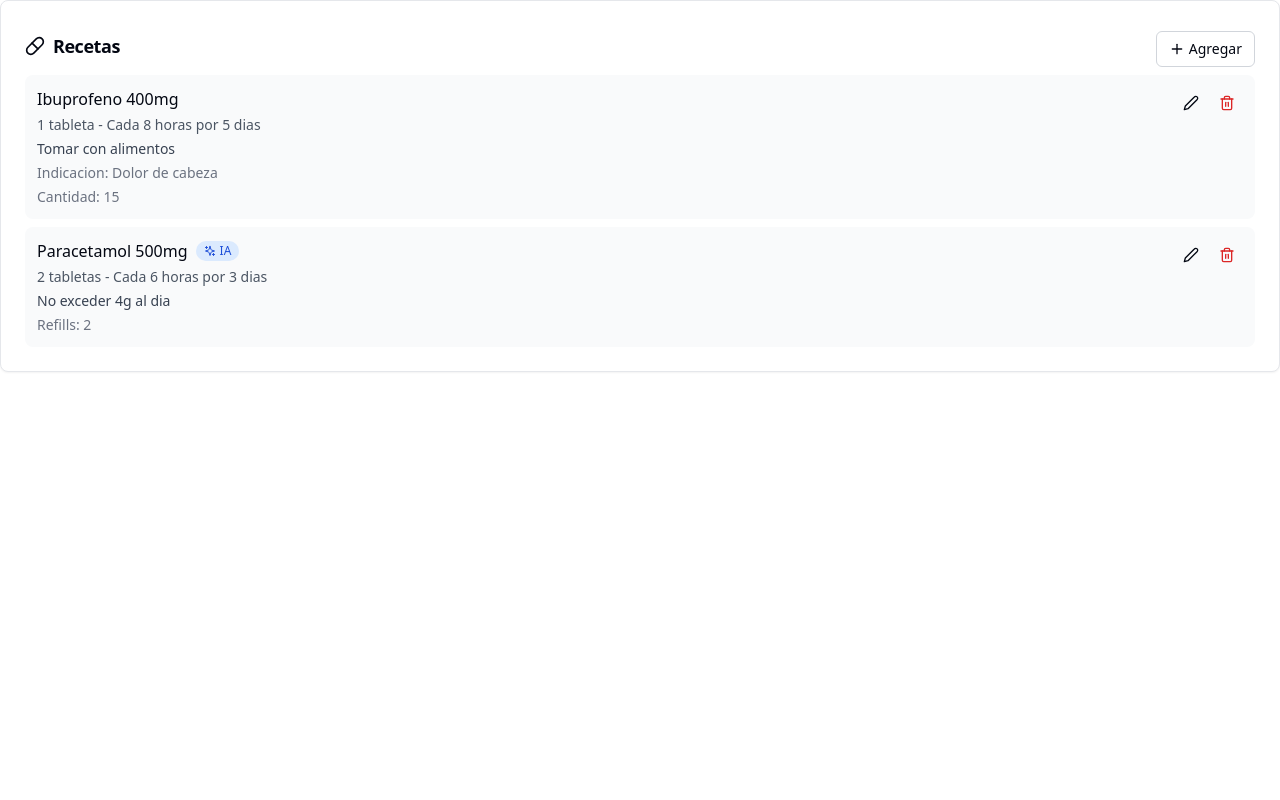
Test: PrescriptionsSection › should show edit form when clicking edit button
// First prescription's edit button is the first icon button (index 0)
Step 1. Click the 2nd button → (1191, 103), box top-left (1175, 87), bottom-right (1207, 119)
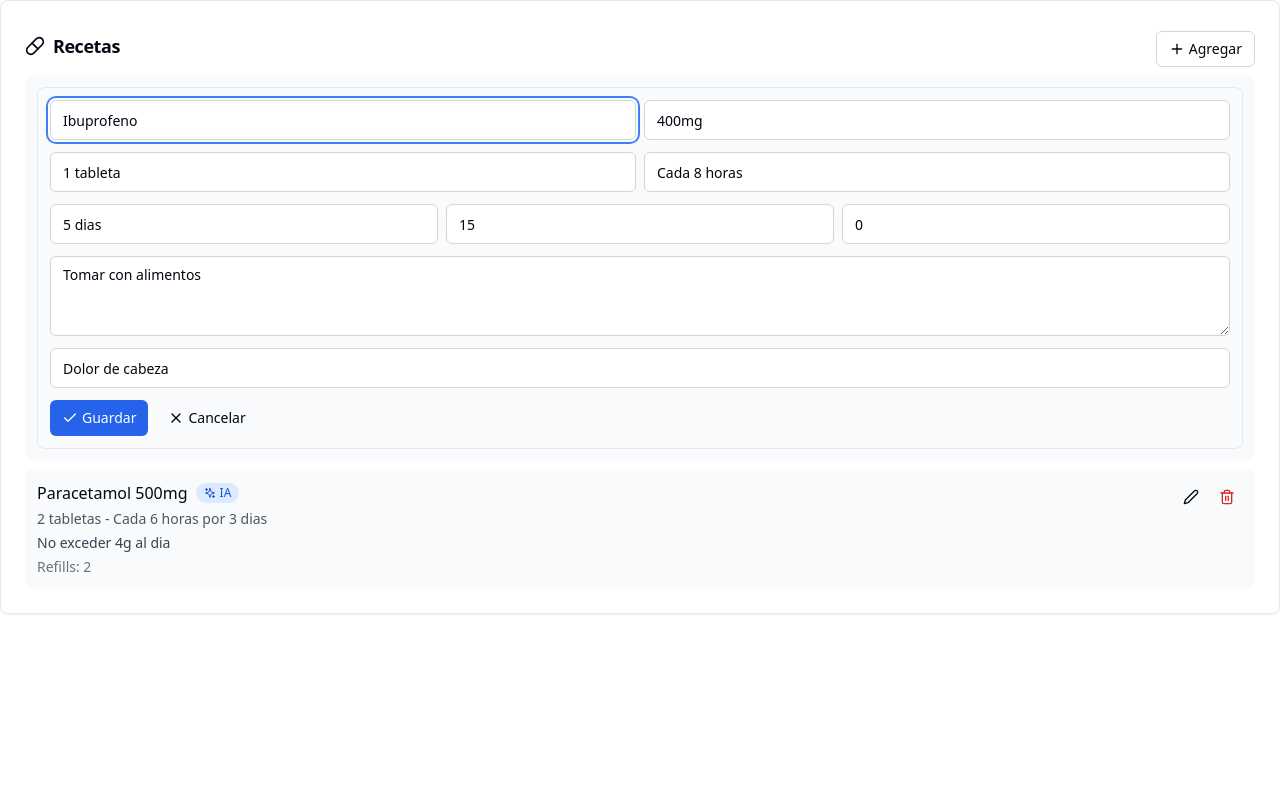
Expected: the 1st field showing "Ibuprofeno" is shown, top-left (50, 100), bottom-right (636, 140)
Expected: the 2nd field showing "400mg" is shown, top-left (644, 100), bottom-right (1230, 140)
Expected: the 3rd field showing "1 tableta" is shown, top-left (50, 152), bottom-right (636, 192)
